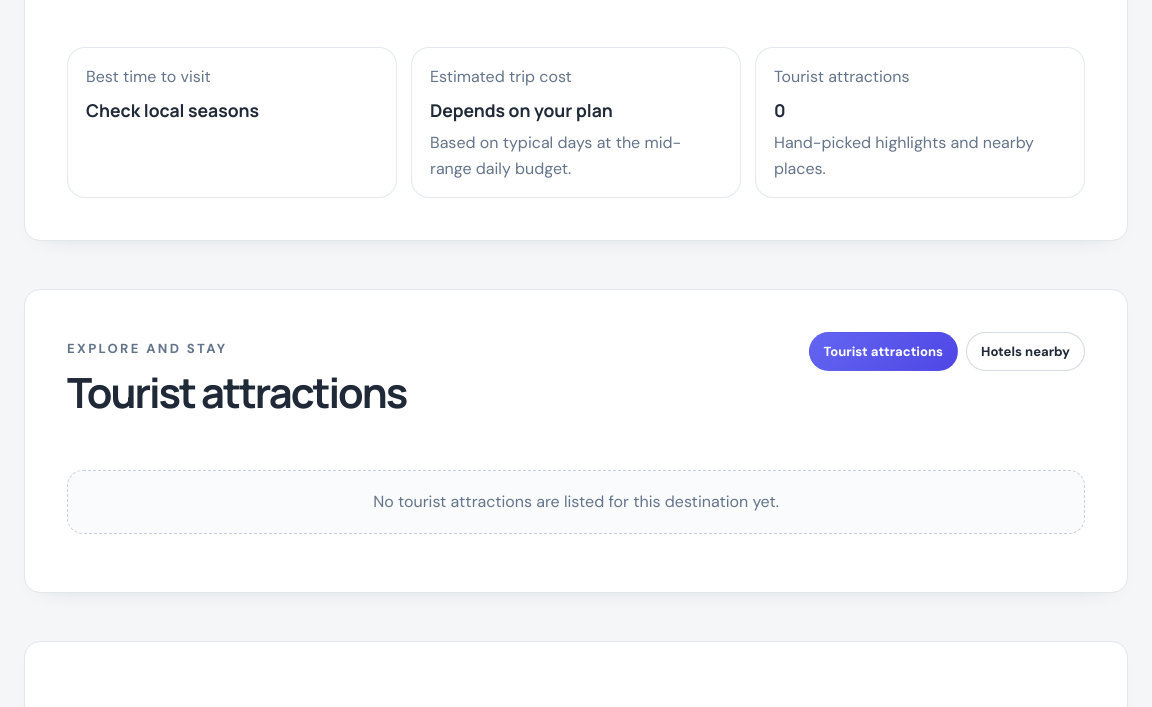
Test: Destination page - hotels nearby › shows the provider error instead of an endless spinner
This screenshot has width=1152, height=707.
(page scrolled)
Click the tab "Hotels nearby": (1026, 352) top-left (966, 332), bottom-right (1085, 371)
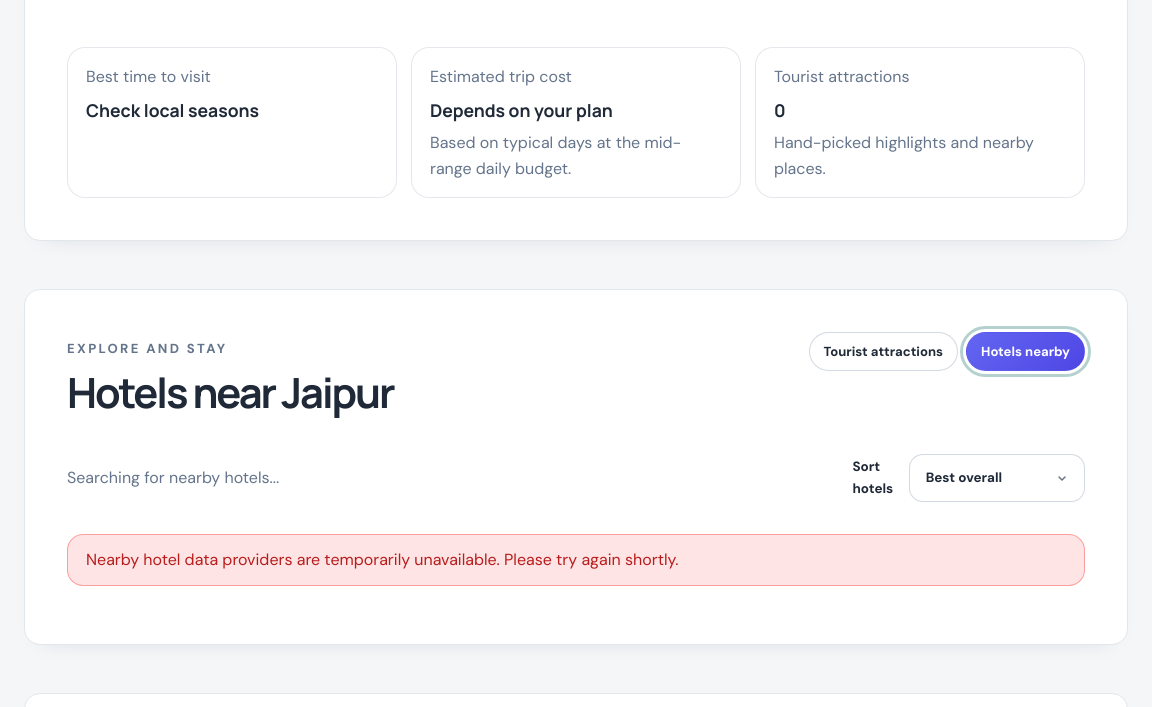
Now the text "temporarily unavailable" is shown, box top-left (86, 549), bottom-right (678, 570)
